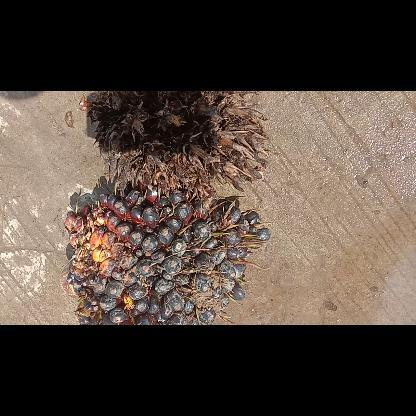Janjang kosong: (86, 90, 270, 200)
TBS mentah: (61, 180, 272, 324)
